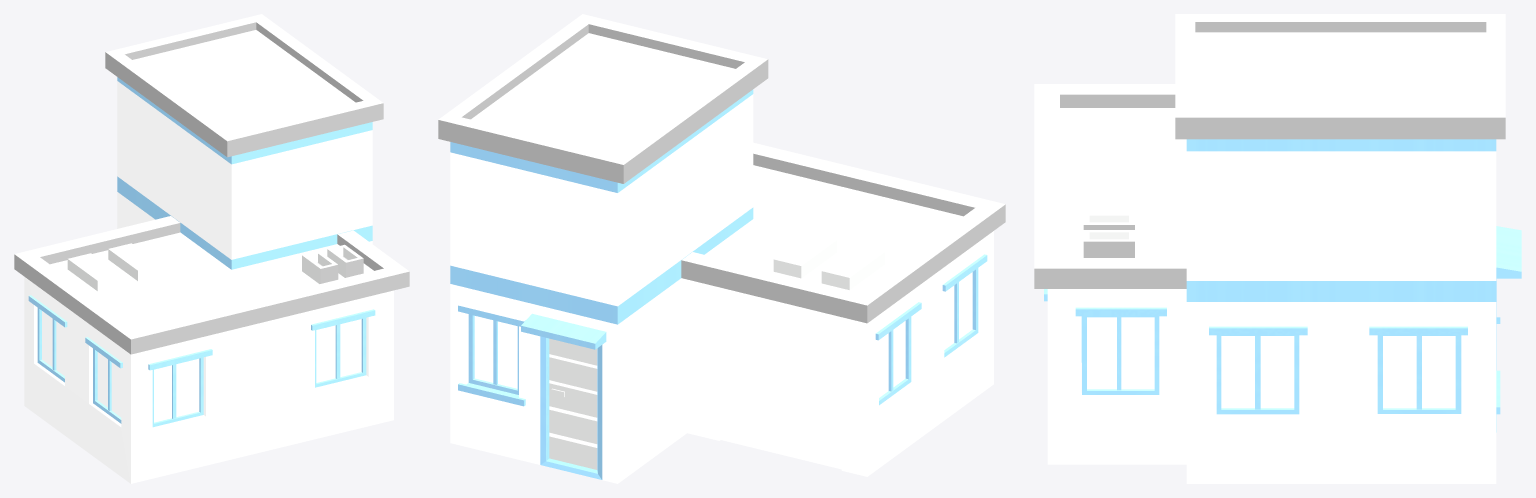
Rendered from purpose.006.glb.
3 renders of one model, left to right at view 1: azimuth 30°, elevation 25°; view 2: azimuth 150°, elevation 25°; view 3: azimuth 270°, elevation 25°, orthographic. The views are drawn at different scales.
Visible parts, largest first — view 1: purpose.006(Clone); view 2: purpose.006(Clone); view 3: purpose.006(Clone).
Part boxes in pixels (x1=…): purpose.006(Clone): x1=14, y1=14, x2=409, y2=483; purpose.006(Clone): x1=438, y1=14, x2=1005, y2=483; purpose.006(Clone): x1=1034, y1=14, x2=1521, y2=483.
Bounding box in the file's own units: 7.41 × 6.36 × 7.57.
Materials: 1 (1 with a texture image).
